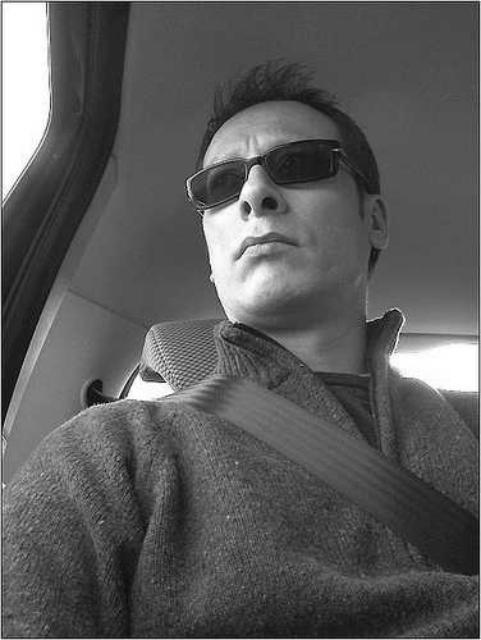Seatbelt: (87, 374, 481, 576)
